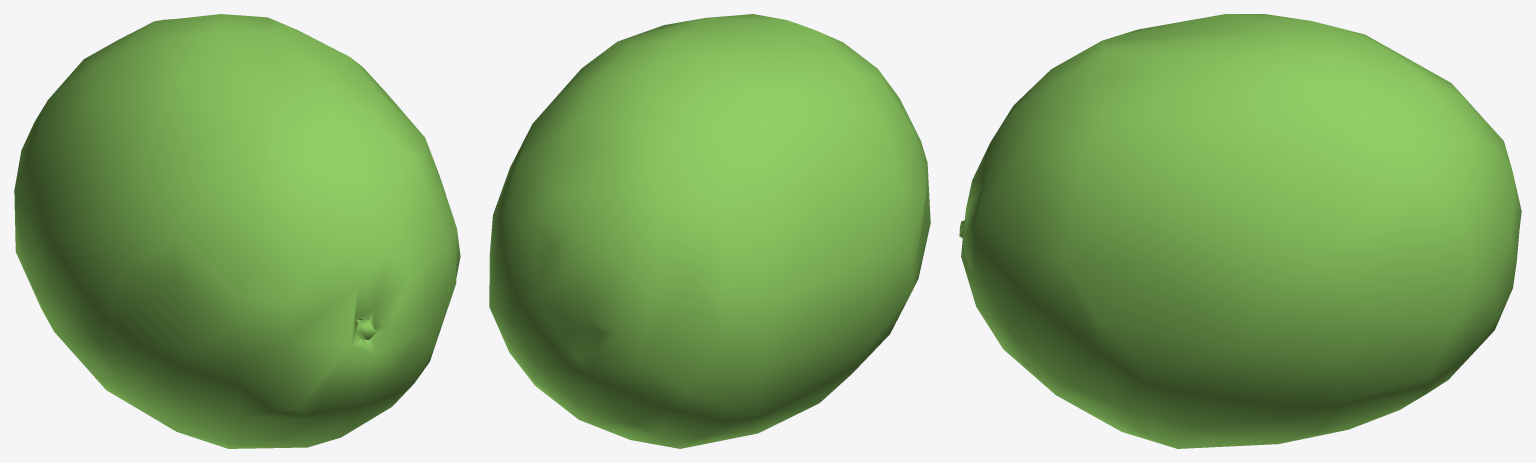
The model's file is Watermelon.fbx.
3 views of the same model, side by side, from view 1: azimuth 30°, elevation 25°; view 2: azimuth 150°, elevation 25°; view 3: azimuth 270°, elevation 25° (orthographic). The views are drawn at different scales.
Parts seen in each view (by area): view 1: Watermelon; view 2: Watermelon; view 3: Watermelon.
Boxes of the visible parts, box(x1,y1,x2,y2) form: Watermelon: box(14, 14, 460, 448); Watermelon: box(489, 14, 930, 448); Watermelon: box(959, 14, 1521, 448).
Size of the model in its own units: 34.9 by 35.84 by 45.61.
